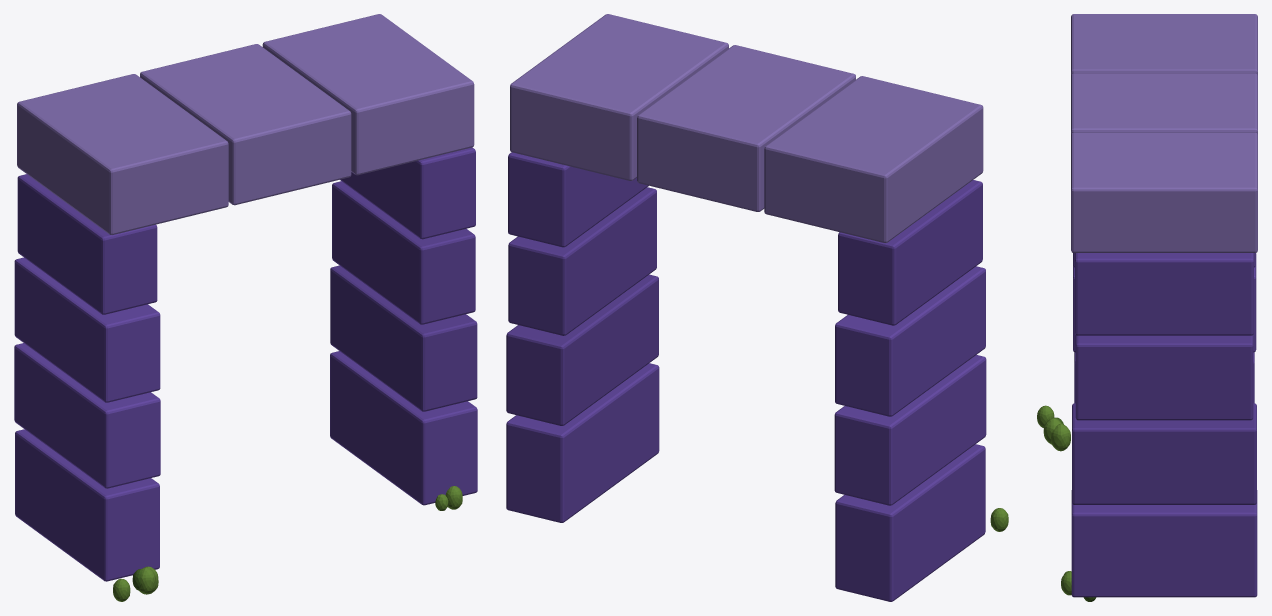
Rendered from door_frame.glb.
The picture shows the model from 3 angles, left to right: view 1: azimuth 30°, elevation 25°; view 2: azimuth 150°, elevation 25°; view 3: azimuth 270°, elevation 25°; orthographic projection. The views are drawn at different scales.
Visible parts, largest first — view 1: DoorFrame; view 2: DoorFrame; view 3: DoorFrame.
Part boxes in pixels (<box>): DoorFrame: <box>14,14,477,601</box>; DoorFrame: <box>506,14,1008,601</box>; DoorFrame: <box>1037,14,1257,601</box>.
Bounding box in the file's own units: 1.02 × 1.1 × 0.5201.
